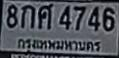4: (58, 5, 69, 29), (88, 5, 98, 30)
6: (102, 6, 114, 30)
7: (73, 5, 85, 30)
8: (6, 4, 17, 27)
A01: (20, 4, 34, 28)
A38: (38, 3, 52, 28)
BKK: (14, 35, 102, 56)
